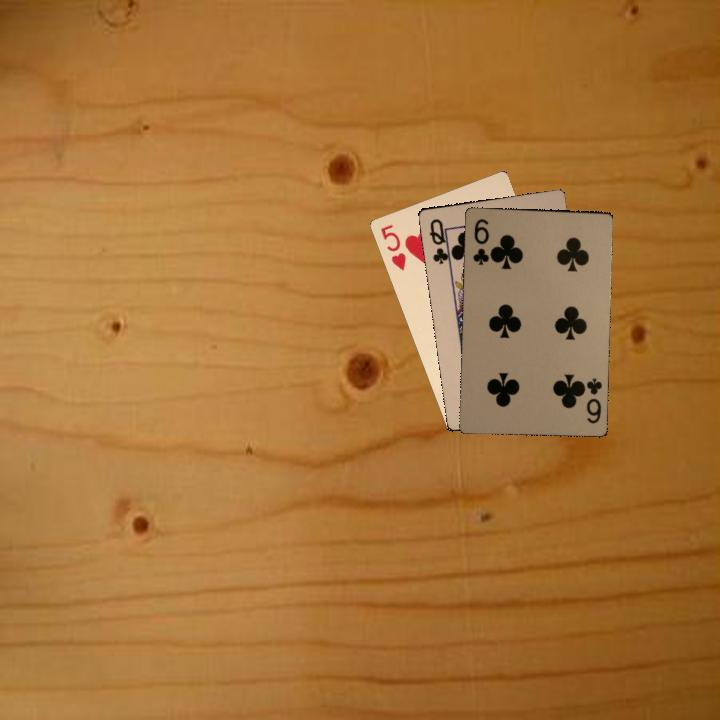5h: (376, 220, 409, 273)
6c: (577, 374, 605, 426), (469, 215, 493, 267)
Qc: (425, 215, 453, 267)
